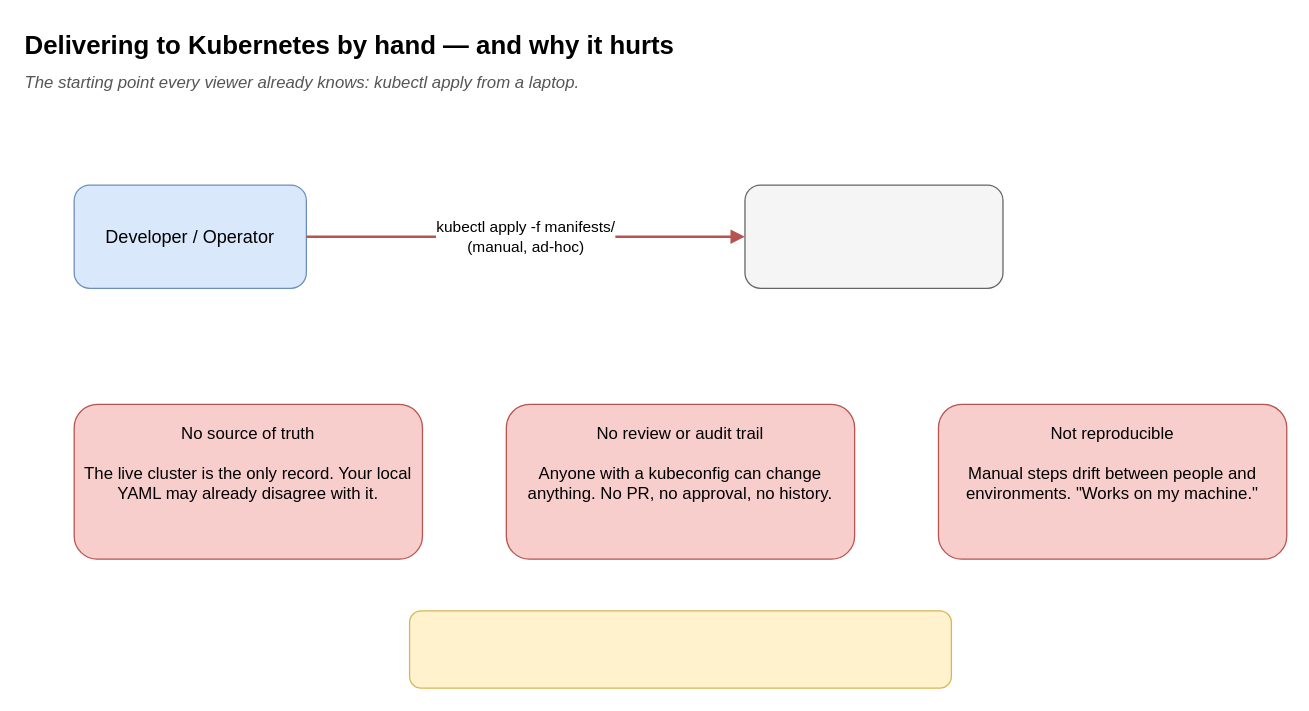
The diagram is 1309 pixels wide and 711 high, and some of its shapes have lost their labels. The centre of each missing label's shape, as x and y in pixels:
"Kubernetes Cluster" goes at (x=873, y=236).
"So: what is actually running right now — and who changed it last?" goes at (x=679, y=649).
